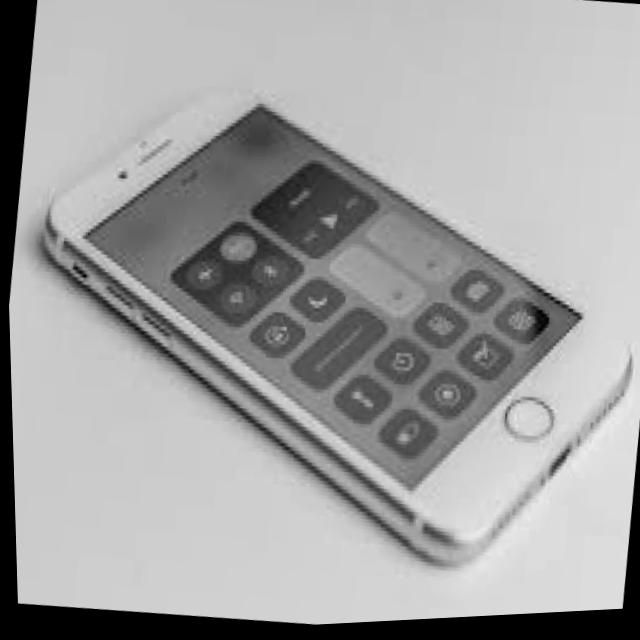Smartphone: (22, 50, 639, 603)
